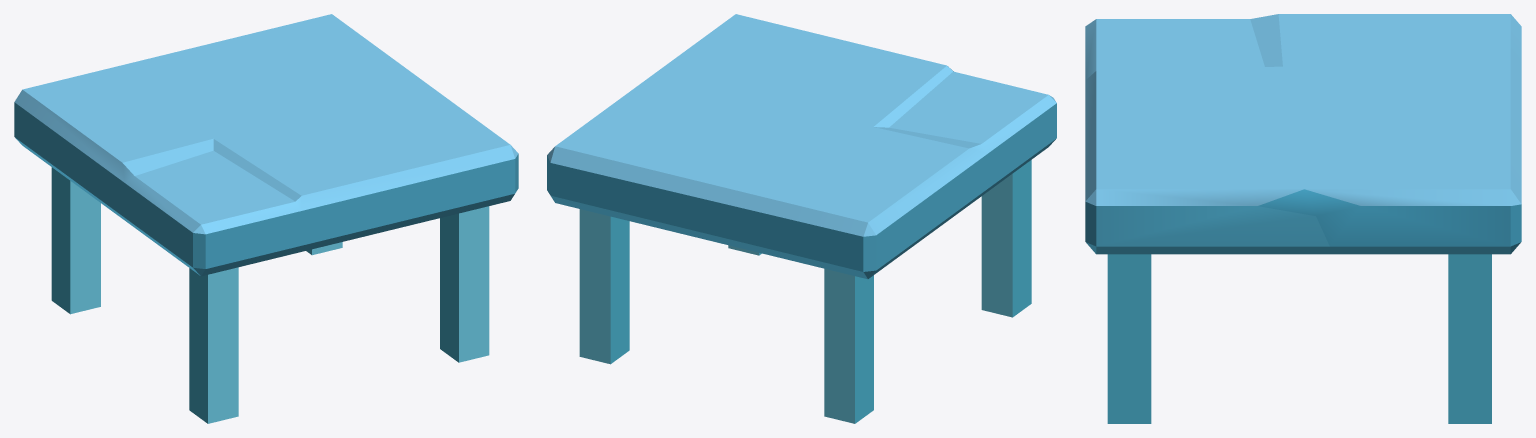
File: ban.fbx
The picture shows the model from 3 angles, left to right: view 1: azimuth 30°, elevation 25°; view 2: azimuth 150°, elevation 25°; view 3: azimuth 270°, elevation 25°; orthographic projection. The views are drawn at different scales.
Visible parts, largest first — view 1: ban; view 2: ban; view 3: ban.
Boxes of the visible parts, x1,y1,x2,y2 form: ban: (14,14,518,423); ban: (547,14,1056,423); ban: (1085,14,1521,423).
Size of the model in its own units: 189 by 117 by 189.
